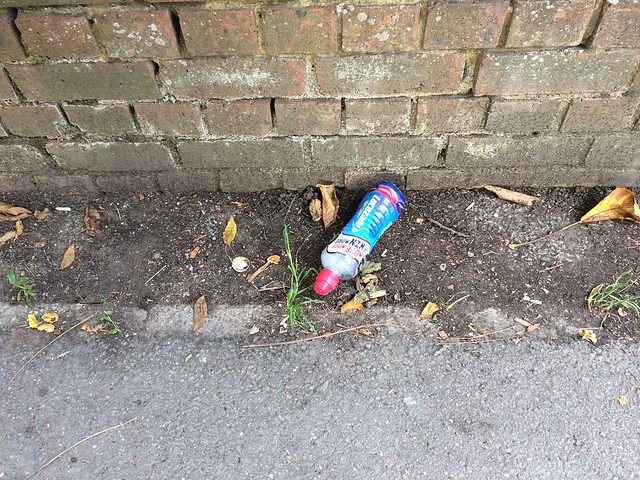bottle: (308, 174, 408, 297)
